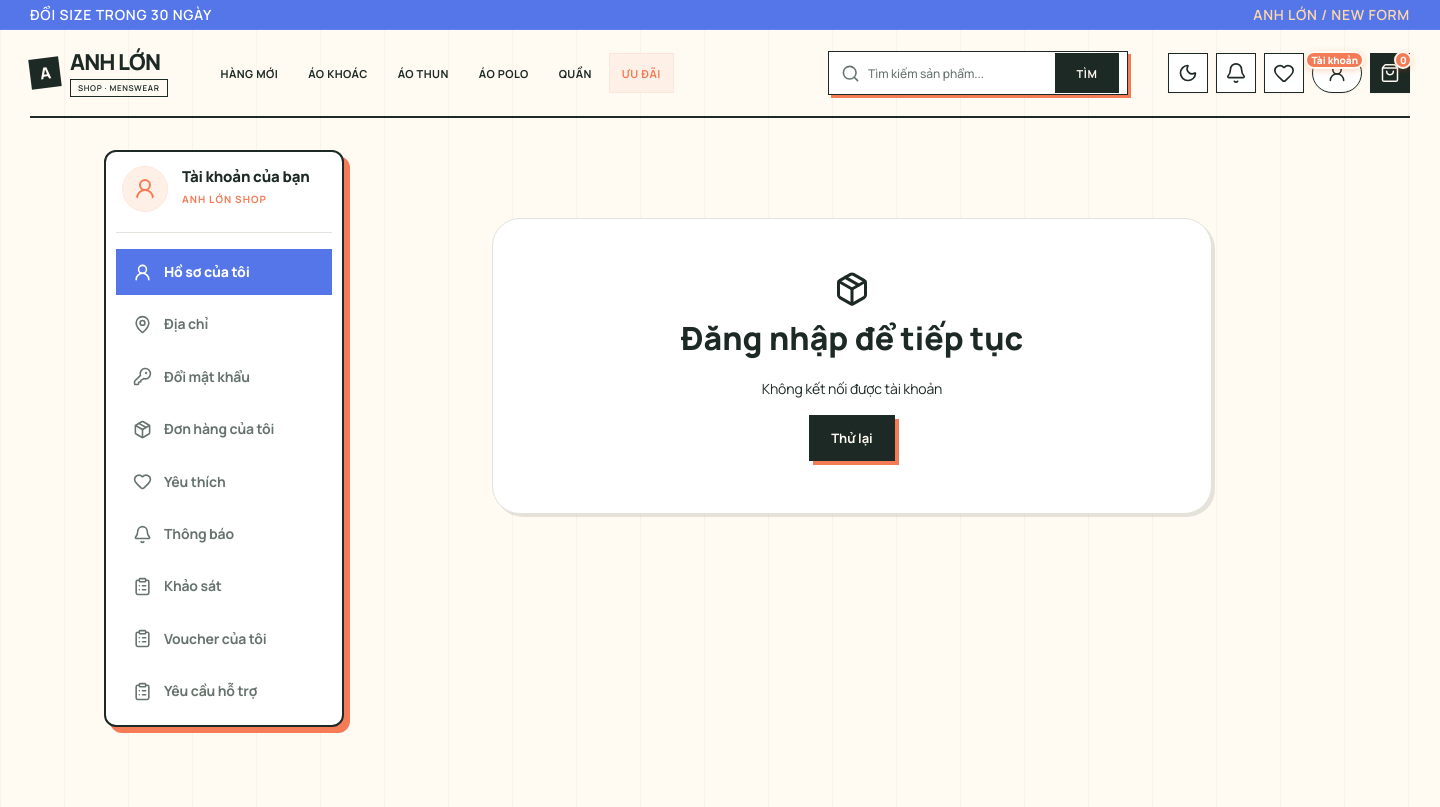
Test: keeps a session network failure recoverable on a protected page
Expected: the text "Không kết nối được tài khoản" is shown, [762,379,942,398]
Click the button "Thử lại" at (852, 438), box [809,415,895,461]
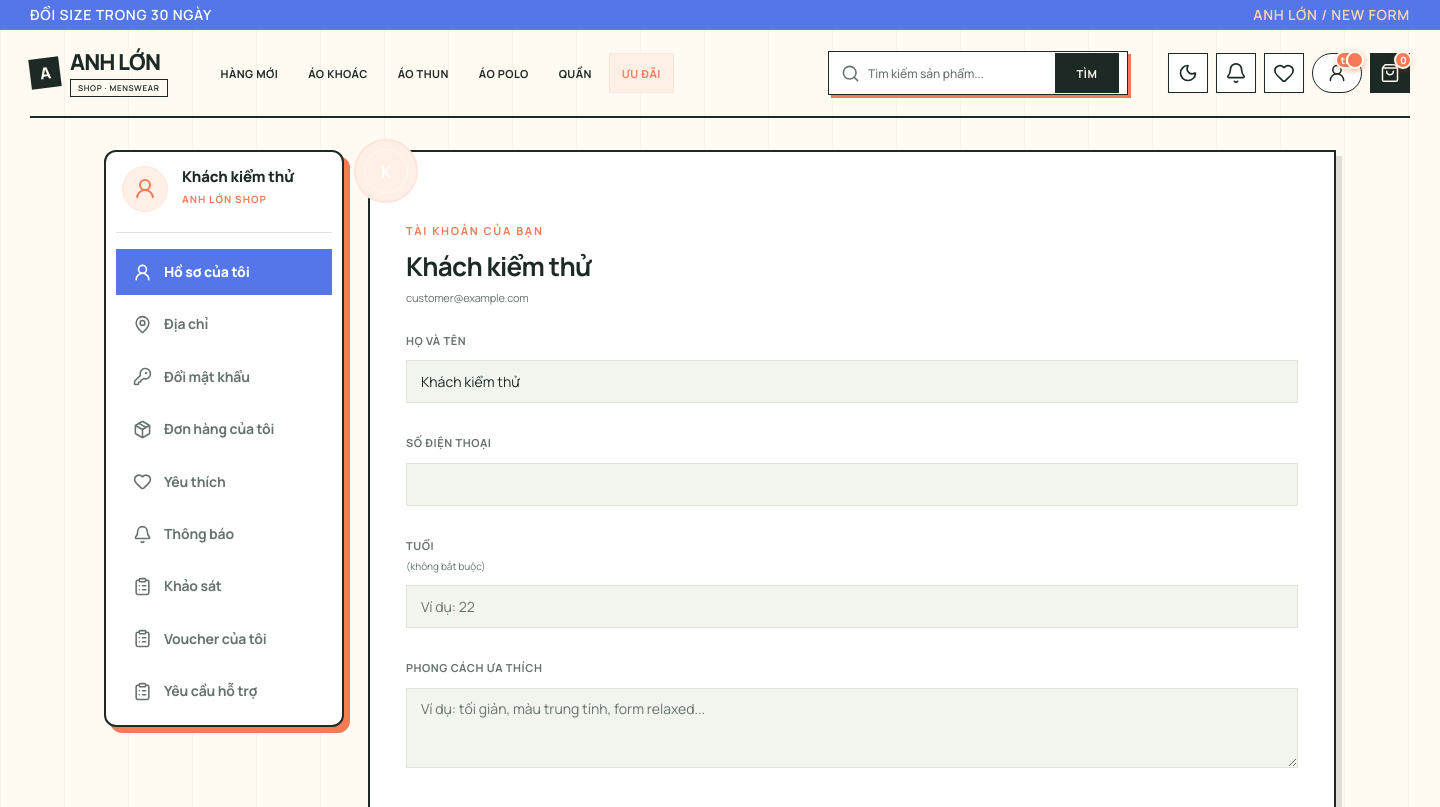
Expected: the heading "Khách kiểm thử" is shown, [406,248,591,284]
